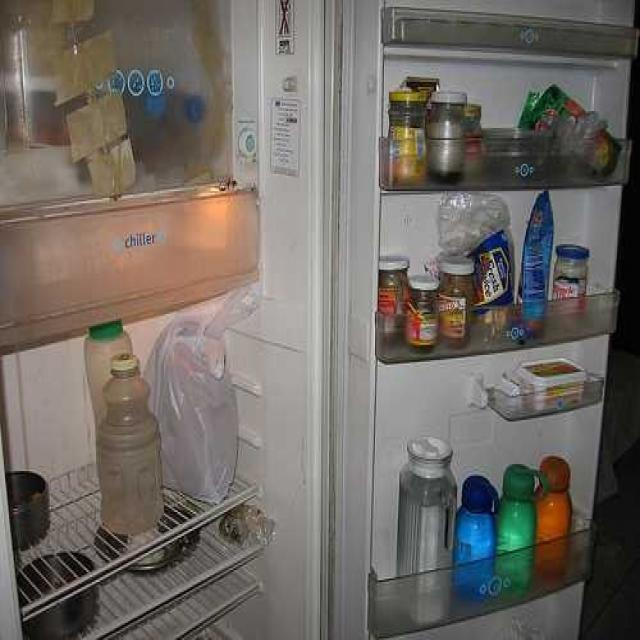refrigerator: (0, 0, 611, 637)
